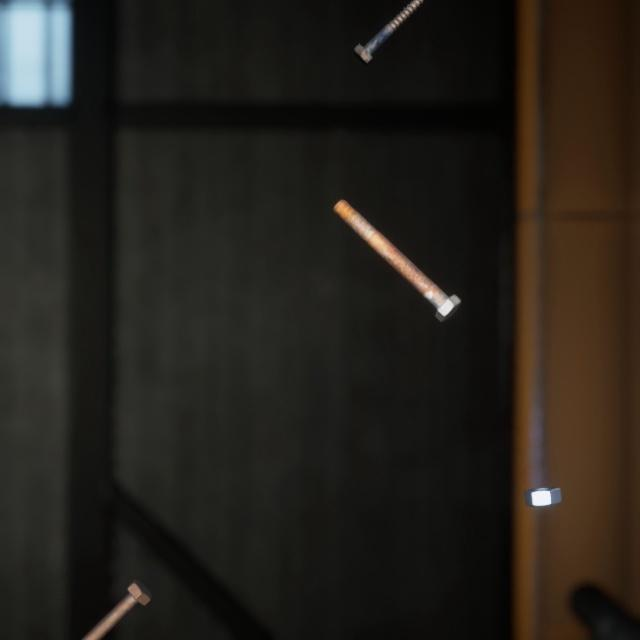bolt: (328, 179, 465, 310), (53, 551, 156, 640), (348, 0, 424, 62)
nut: (520, 460, 566, 489)
